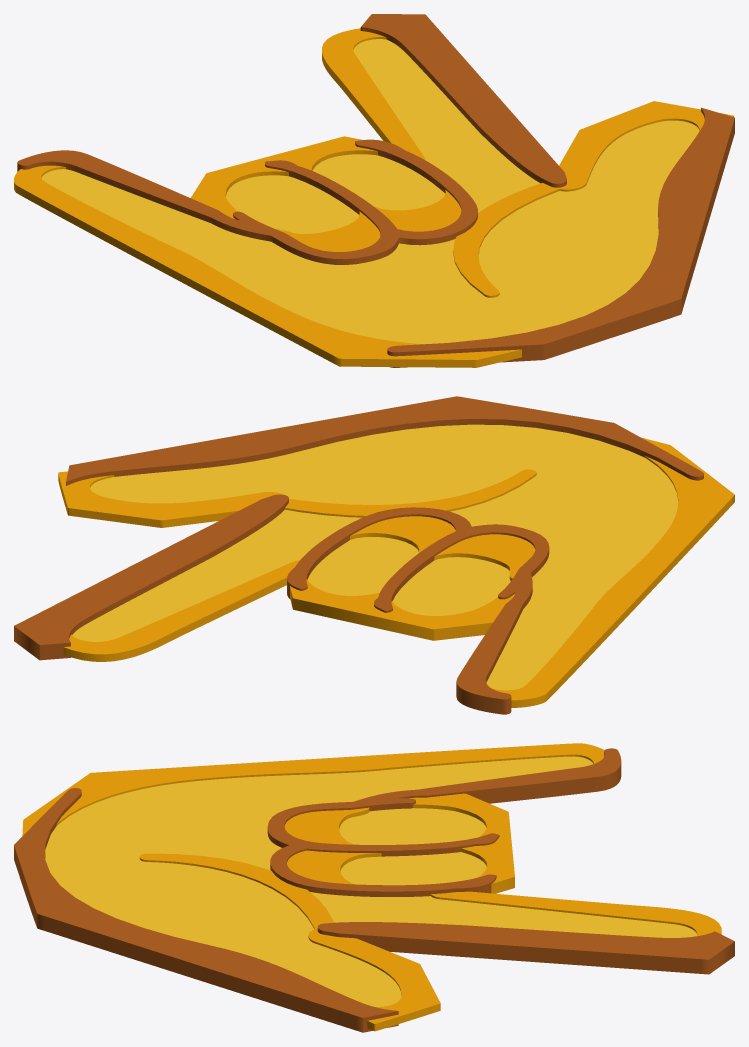
File: emoji_u1f91f.glb
The picture shows the model from 3 angles, top to bottom: view 1: azimuth 30°, elevation 25°; view 2: azimuth 150°, elevation 25°; view 3: azimuth 270°, elevation 25°; orthographic projection. The views are drawn at different scales.
Parts seen in each view (by area): view 1: emoji_u1f91f; view 2: emoji_u1f91f; view 3: emoji_u1f91f.
Part boxes in pixels (bbox=[...]): emoji_u1f91f: bbox=[14, 14, 734, 367]; emoji_u1f91f: bbox=[14, 396, 734, 714]; emoji_u1f91f: bbox=[14, 743, 734, 1032].
Size of the model in its own units: 0.0326 by 0.0008 by 0.0353.
